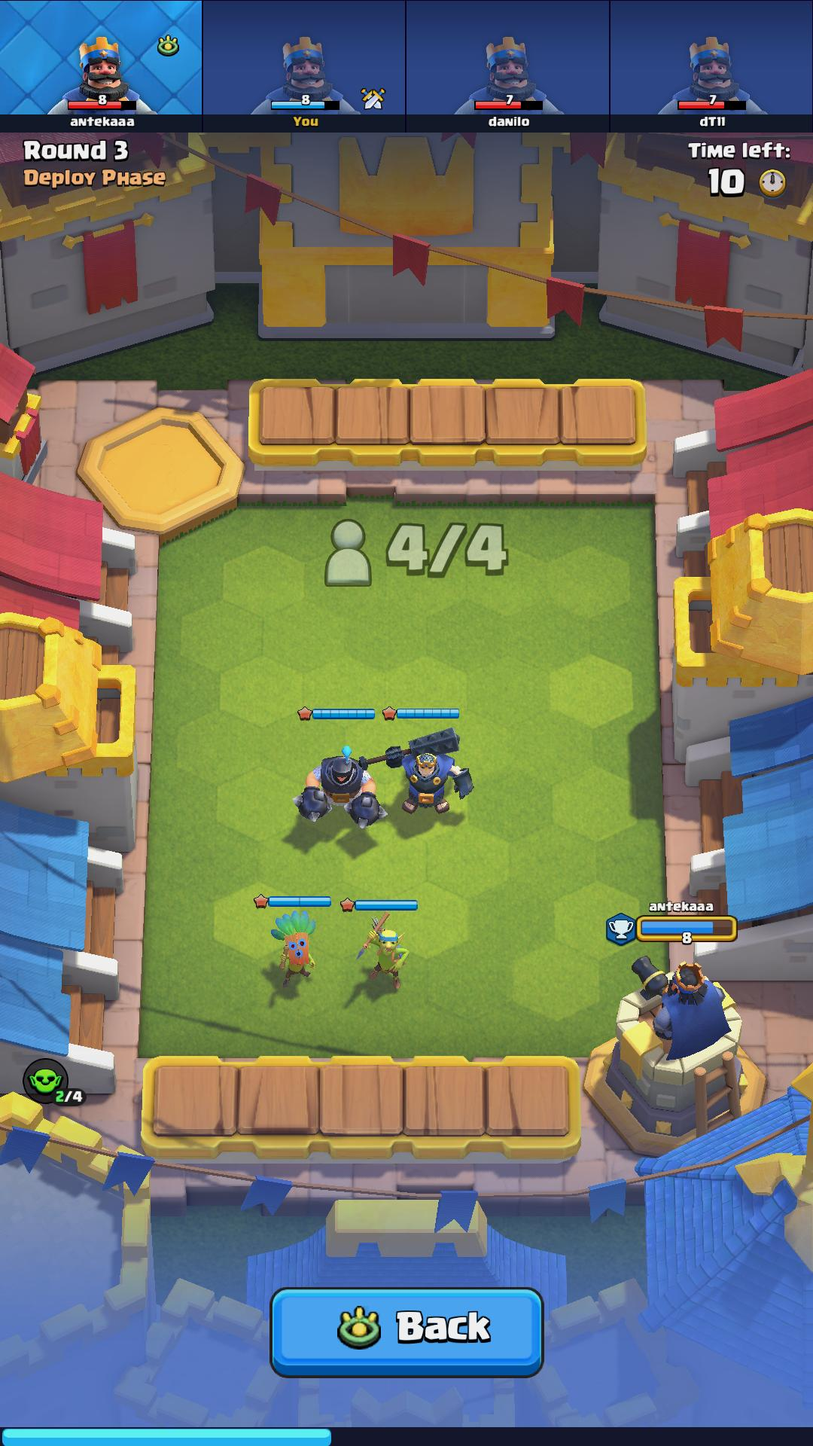dart: (267, 907, 325, 989)
king: (375, 725, 476, 819)
mega: (287, 742, 391, 831)
spear: (350, 910, 414, 988)
